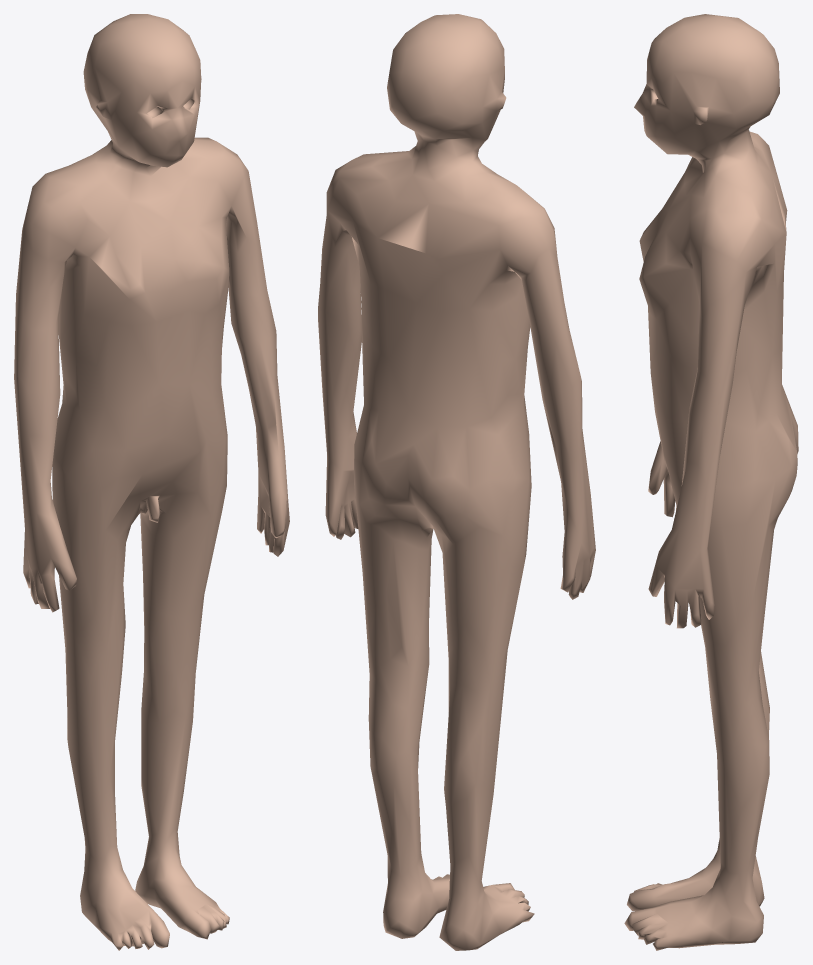
File: pediatric_child_10y_male.surface.LOD3.glb
3 views of the same model, side by side, from view 1: azimuth 30°, elevation 25°; view 2: azimuth 150°, elevation 25°; view 3: azimuth 270°, elevation 25° (orthographic).
Parts seen in each view (by area): view 1: PEDIATRIC.CHILD_10Y.MALE.SURFACE.SKIN; view 2: PEDIATRIC.CHILD_10Y.MALE.SURFACE.SKIN; view 3: PEDIATRIC.CHILD_10Y.MALE.SURFACE.SKIN.
Boxes of the visible parts, x1,y1,x2,y2 form: PEDIATRIC.CHILD_10Y.MALE.SURFACE.SKIN: (14,14,289,950); PEDIATRIC.CHILD_10Y.MALE.SURFACE.SKIN: (318,14,595,950); PEDIATRIC.CHILD_10Y.MALE.SURFACE.SKIN: (624,14,798,950).
Bounding box in the file's own units: 0.4138 × 1.38 × 0.2415.
